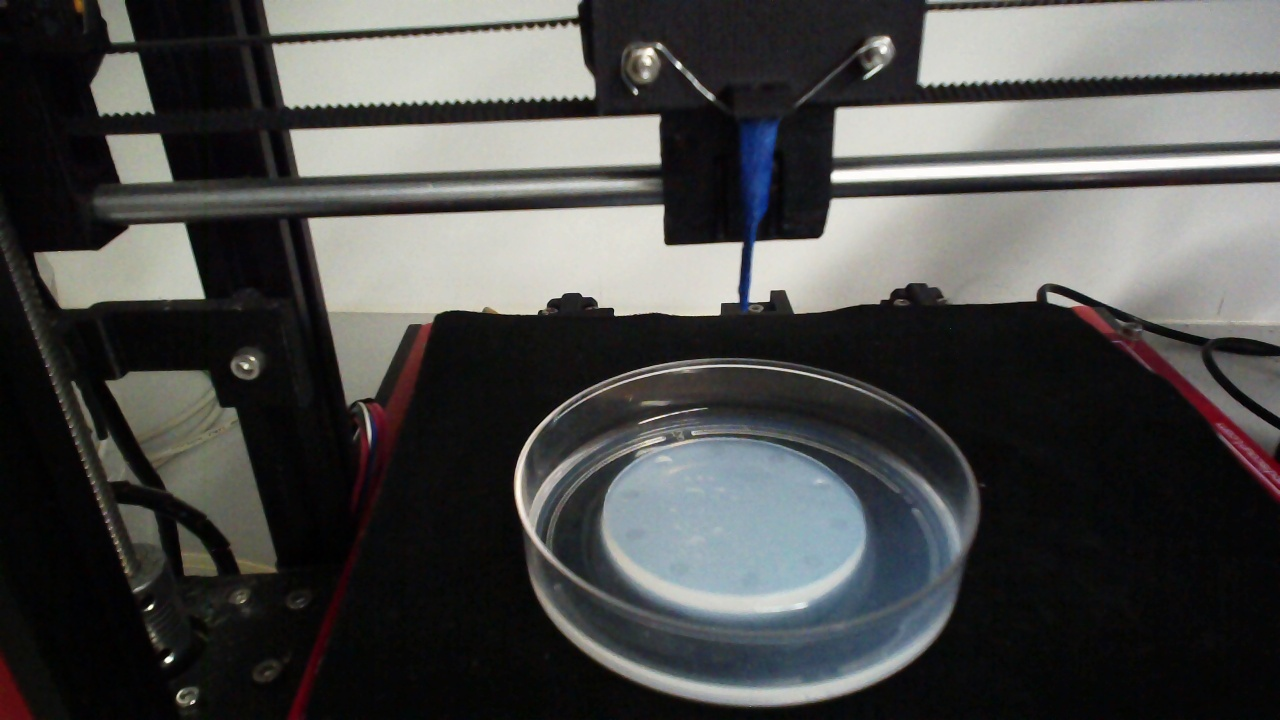groove: (739, 569, 762, 589), (802, 553, 826, 569), (651, 454, 673, 471), (668, 561, 689, 578), (810, 477, 831, 493), (826, 517, 848, 532), (626, 526, 645, 541), (765, 452, 788, 464), (618, 488, 639, 501), (708, 443, 727, 457)
needle: (737, 123, 777, 316)
